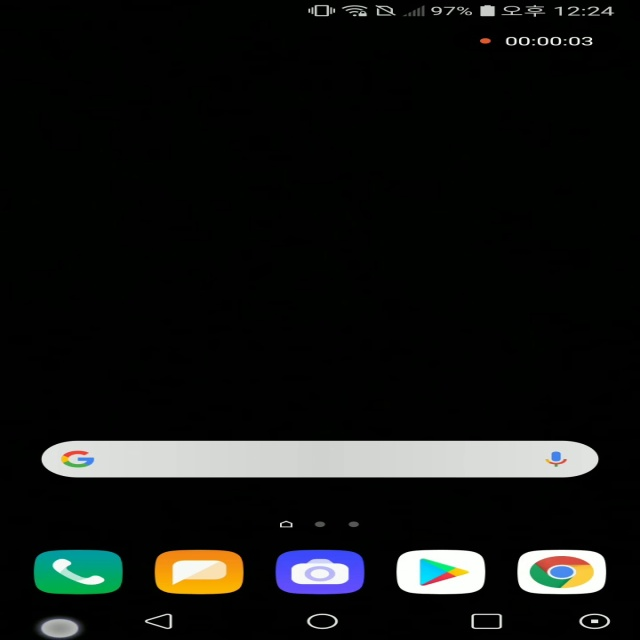Cursor: (39, 618, 83, 640)
